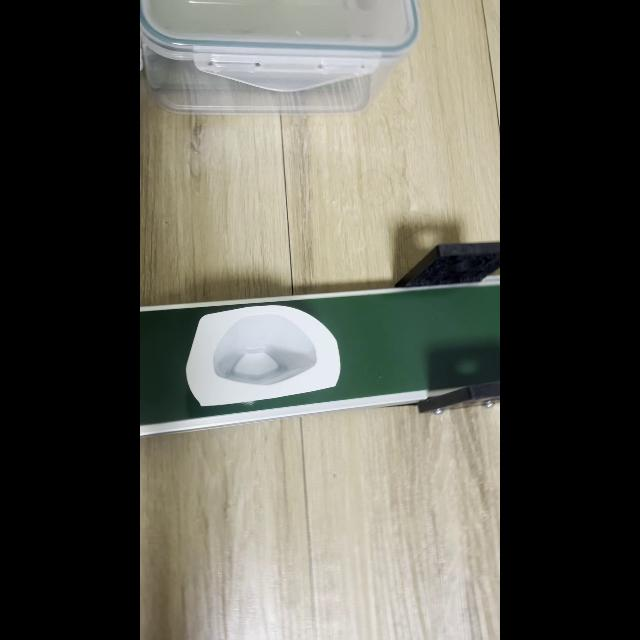clean: (184, 304, 340, 406)
